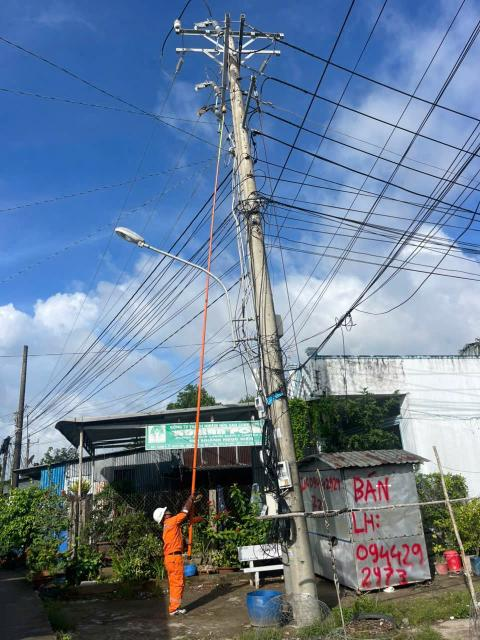gloves: (179, 493, 197, 514)
helmet: (146, 505, 170, 523)
shoes: (170, 606, 188, 617)
